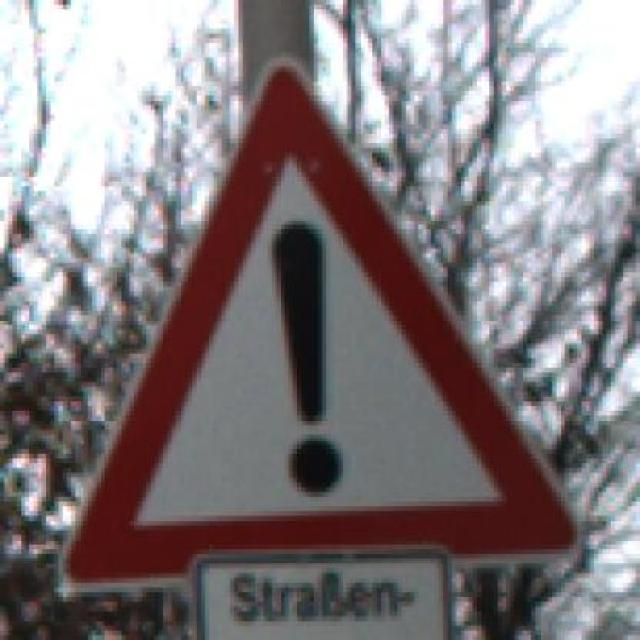Attention Please-: (27, 58, 596, 584)
